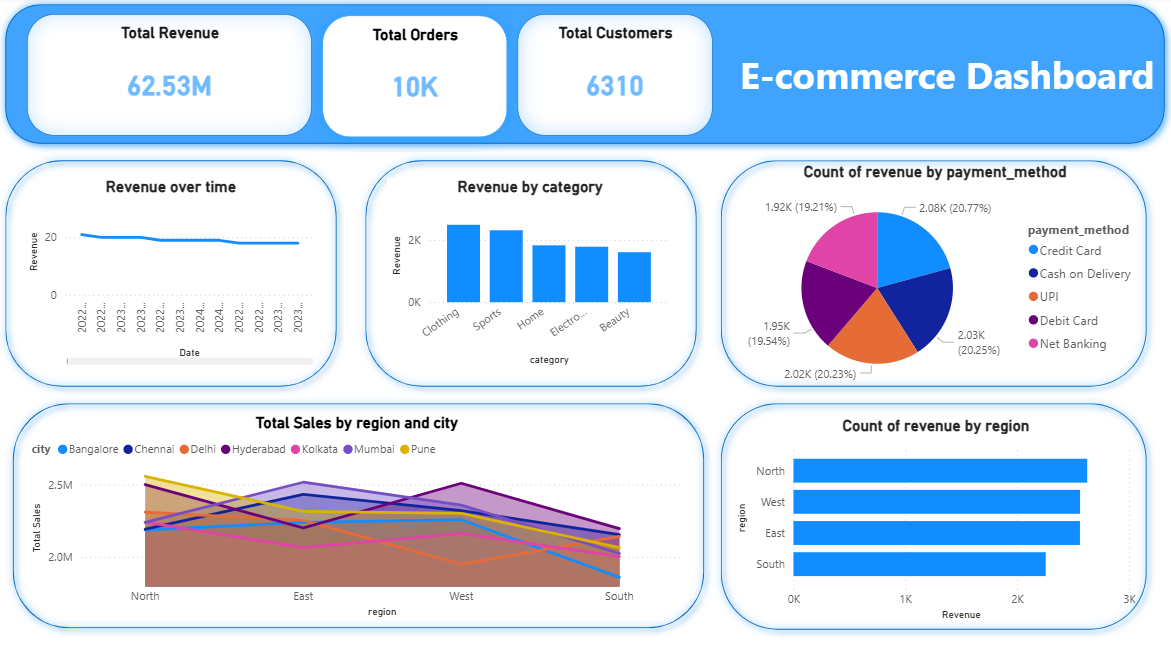

The dashboard page shown, as its layout file describes it:
{"tool":"powerbi","page":{"name":"Page 1","canvas":[1280,720],"ordinal":0},"visuals":[{"type":"lineChart","title":"Revenue over time","fields":{"Category":["orders_dataset.order_date"],"Y":["CountNonNull(orders_dataset.revenue)"]},"box":[29.1,195.9,317.4,207.3],"z":0},{"type":"shape","box":[0,0,1269.5,168.4],"z":1000},{"type":"shape","box":[0,168.4,375.7,262.3],"z":2000},{"type":"shape","box":[772.4,168.4,477.7,262.3],"z":2001},{"type":"shape","box":[388.6,168.4,375.7,262.3],"z":2002},{"type":"shape","box":[772.4,430.7,477.7,262.3],"z":2003},{"type":"clusteredColumnChart","title":"Revenue by category","fields":{"Category":["products_dataset.category"],"Y":["CountNonNull(orders_dataset.revenue)"]},"box":[421,195.9,309.3,207.3],"z":2004},{"type":"card","title":"Total Revenue","fields":{"Values":["customers_dataset.Total Sales"]},"box":[32.4,19.4,307.7,131.2],"z":2005},{"type":"pieChart","fields":{"Category":["orders_dataset.payment_method"],"Y":["CountNonNull(orders_dataset.revenue)"]},"box":[782.1,179.7,461.5,251],"z":2006},{"type":"card","title":"Total Orders","fields":{"Values":["orders_dataset.Total Orders"]},"box":[351.4,21,199.2,131.2],"z":2007},{"type":"card","title":"Total Customers","fields":{"Values":["orders_dataset.Total Customers"]},"box":[561.9,19.4,210.5,131.2],"z":2008},{"type":"clusteredBarChart","fields":{"Category":["customers_dataset.region"],"Y":["CountNonNull(orders_dataset.revenue)"]},"box":[793.4,453.4,440.4,225.1],"z":2009},{"type":"areaChart","fields":{"Category":["customers_dataset.region"],"Series":["customers_dataset.city"],"Y":["customers_dataset.Total Sales"]},"box":[32.4,450.1,712.5,225.1],"z":2010},{"type":"shape","box":[8.1,430.7,764.3,260.7],"z":2011}]}

Visuals, with their boxes in screenshot pixels (x1, y1, x2, y2), scaled from the page's 1280x720 canvas onto the 1171x647 screenshot:
"Revenue over time" lineChart: [27, 176, 317, 362]
shape: [0, 0, 1161, 151]
shape: [0, 151, 344, 387]
shape: [707, 151, 1144, 387]
shape: [356, 151, 699, 387]
shape: [707, 387, 1144, 623]
"Revenue by category" clusteredColumnChart: [385, 176, 668, 362]
"Total Revenue" card: [30, 17, 311, 135]
pieChart - orders_dataset.payment_method x CountNonNull(orders_dataset.revenue): [715, 161, 1138, 387]
"Total Orders" card: [321, 19, 504, 137]
"Total Customers" card: [514, 17, 707, 135]
clusteredBarChart - customers_dataset.region x CountNonNull(orders_dataset.revenue): [726, 407, 1129, 610]
areaChart - customers_dataset.region x customers_dataset.city: [30, 404, 681, 607]
shape: [7, 387, 707, 621]
